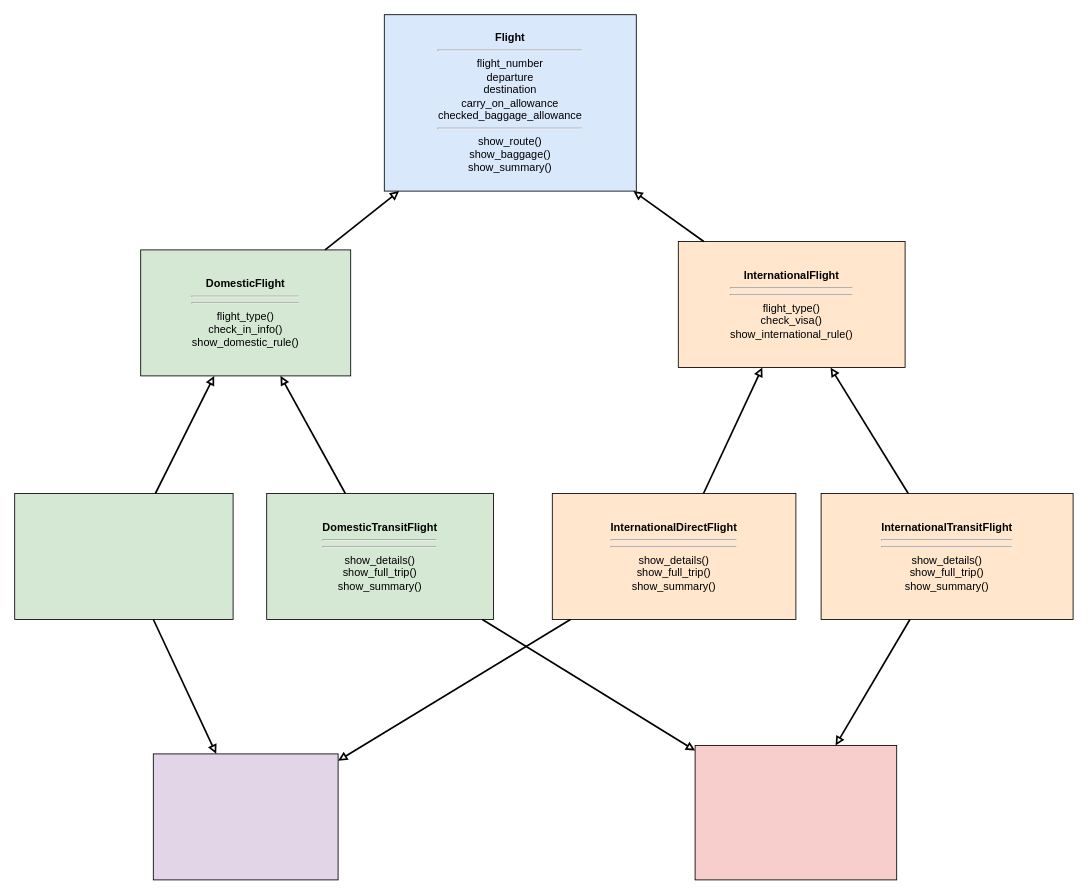
Image size: 1088x895. Some labels were removed from this diagram. Here are the shapes that lost their labels. From the top down, the centre of each, then its label:
At point (123, 556): "DomesticDirectFlight show_details() show_full_trip() show_summary()".
At point (245, 816): "DirectFlight flight_mode() show_stop_info() travel_note()".
At point (795, 812): "TransitFlight stopover flight_mode() show_stop_info() travel_note()".
